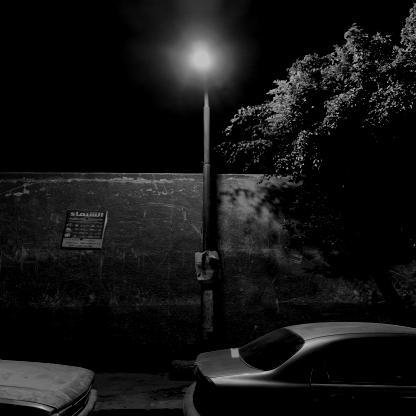light_pole: (192, 51, 214, 362)
